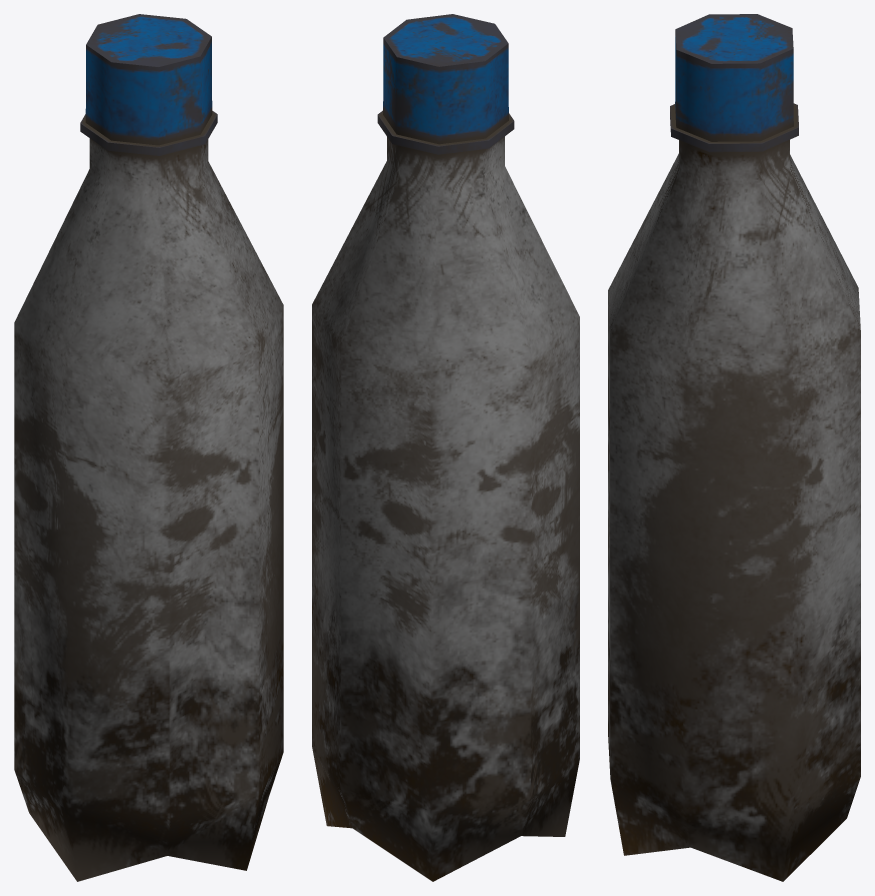
Rendered from dirty_Plastic_Bottles2.dae.
3 views of the same model, side by side, from view 1: azimuth 30°, elevation 25°; view 2: azimuth 150°, elevation 25°; view 3: azimuth 270°, elevation 25° (orthographic).
Visible parts, largest first — view 1: Plastic_Bottle_01_GEO; view 2: Plastic_Bottle_01_GEO; view 3: Plastic_Bottle_01_GEO.
Boxes of the visible parts, x1,y1,x2,y2 form: Plastic_Bottle_01_GEO: (14,14,283,881); Plastic_Bottle_01_GEO: (312,14,579,881); Plastic_Bottle_01_GEO: (608,14,860,881).
Size of the model in its own units: 0.0901 by 0.0901 by 0.3133.
Materials: 1 (1 with a texture image).
